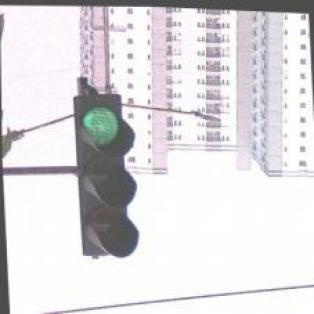Semaforo Verde: (73, 92, 137, 258)
